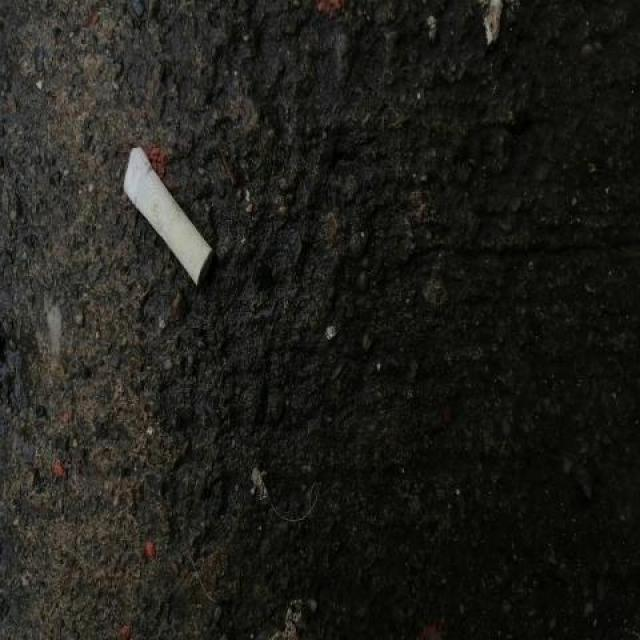non-organic waste: (120, 141, 220, 292)
